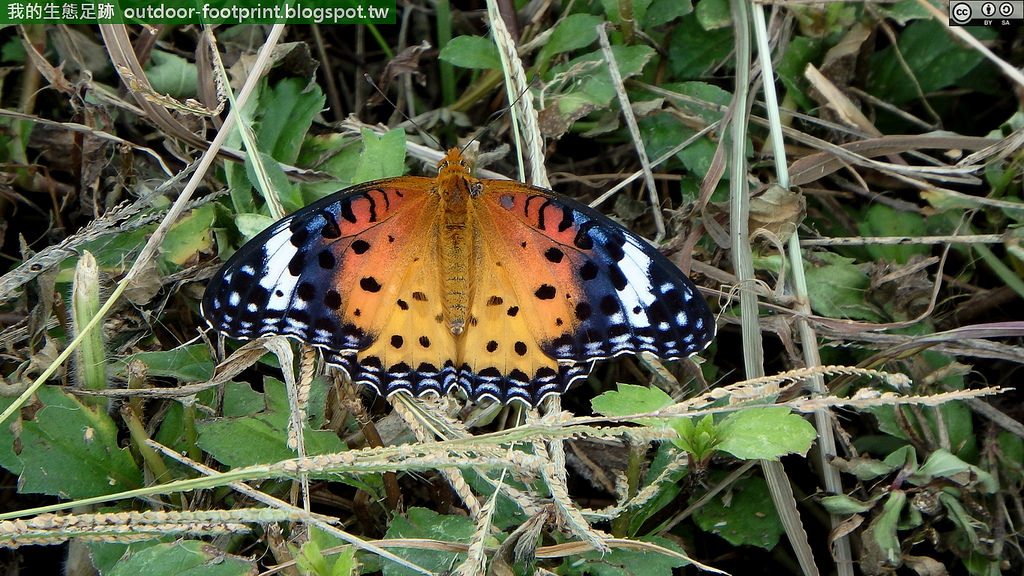Argyreus hyperbius: (197, 65, 731, 409)
butterfly: (199, 67, 733, 411)
